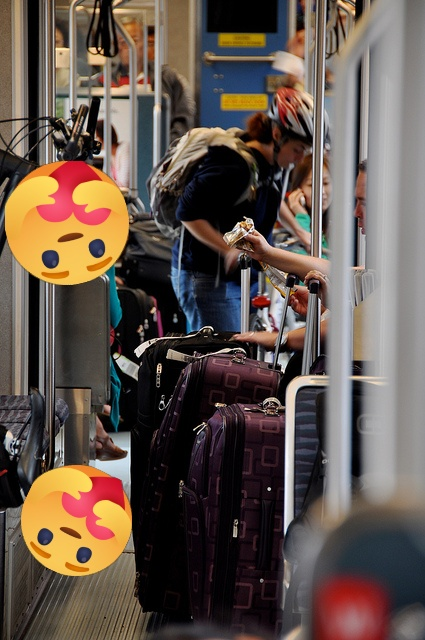care: (5, 161, 129, 285), (21, 465, 132, 576)
